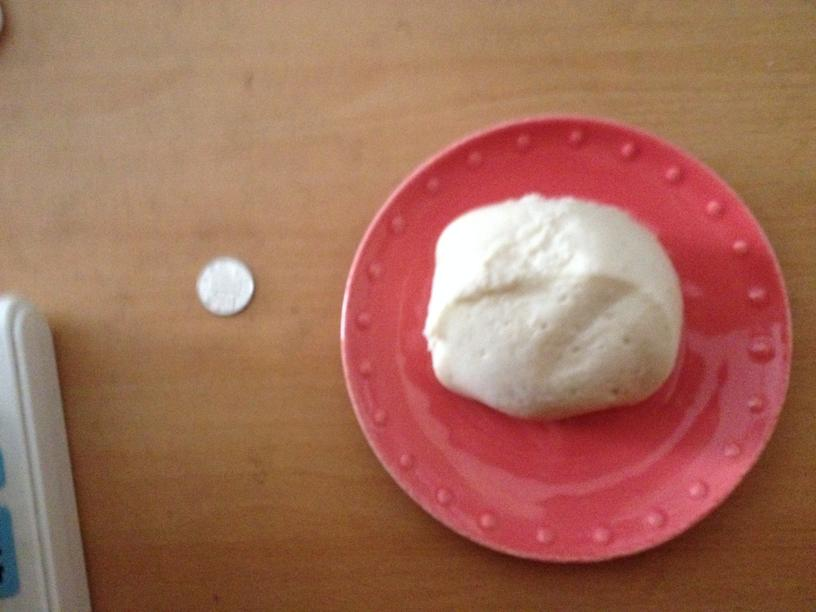bun: (424, 200, 679, 416)
coin: (193, 257, 255, 316)
